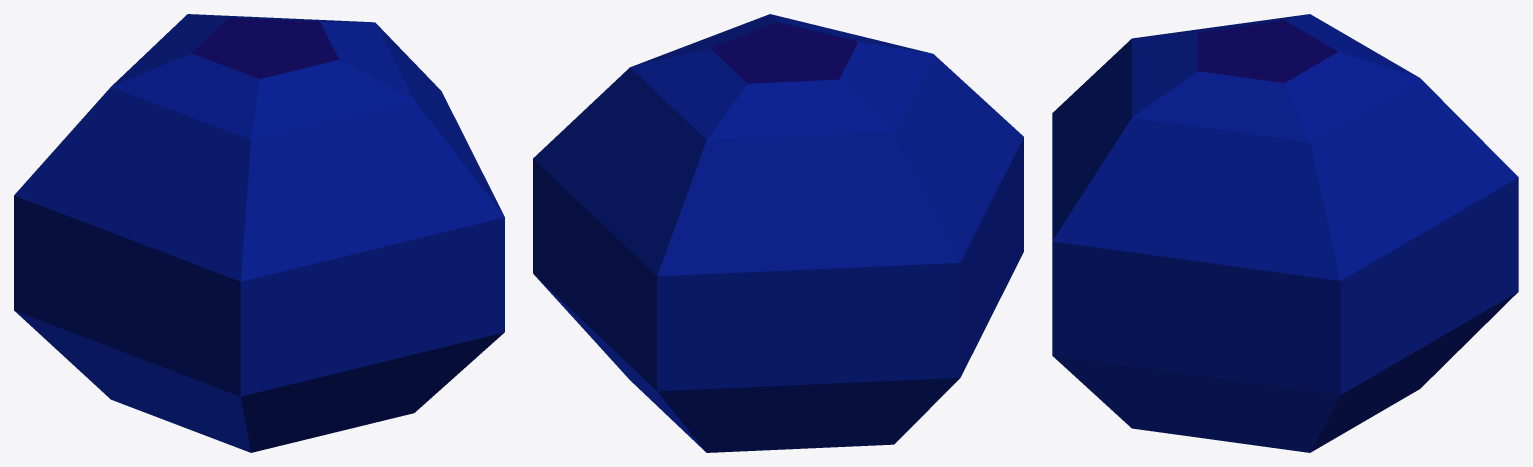
Rendered from blueberry01.obj.
3 views of the same model, side by side, from view 1: azimuth 30°, elevation 25°; view 2: azimuth 150°, elevation 25°; view 3: azimuth 270°, elevation 25° (orthographic).
Parts seen in each view (by area): view 1: Sphere.001; view 2: Sphere.001; view 3: Sphere.001.
Boxes of the visible parts, x1,y1,x2,y2 form: Sphere.001: (14,14,504,452); Sphere.001: (533,14,1023,452); Sphere.001: (1052,14,1518,452).
Bounding box in the file's own units: 0.0162 × 0.0128 × 0.0154.
1 material, 1 textured.
